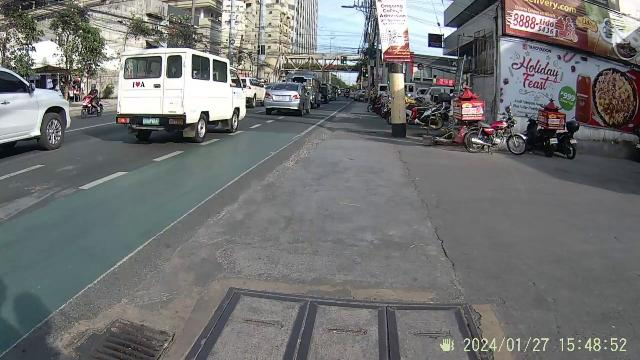car: (1, 65, 74, 156)
utility_post: (387, 40, 411, 138)
